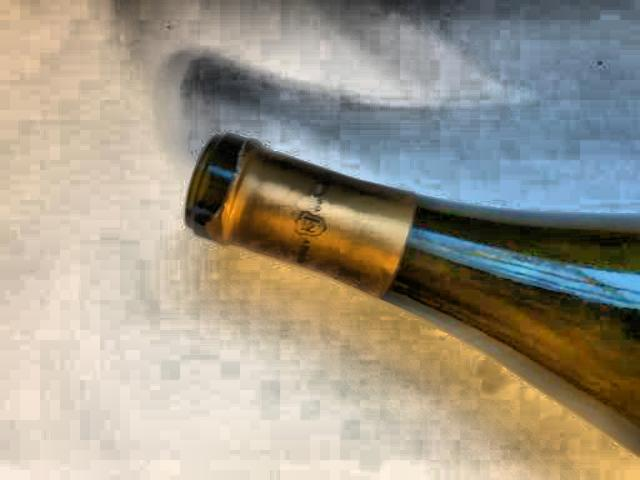Bottles: (155, 116, 640, 480)
